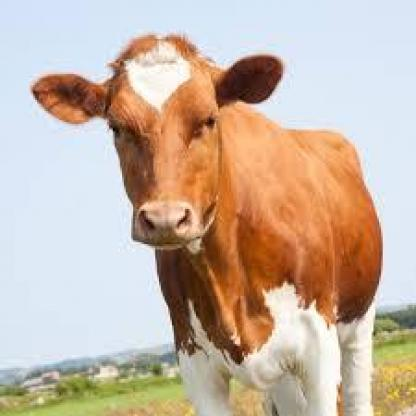cow: (32, 33, 386, 416)
